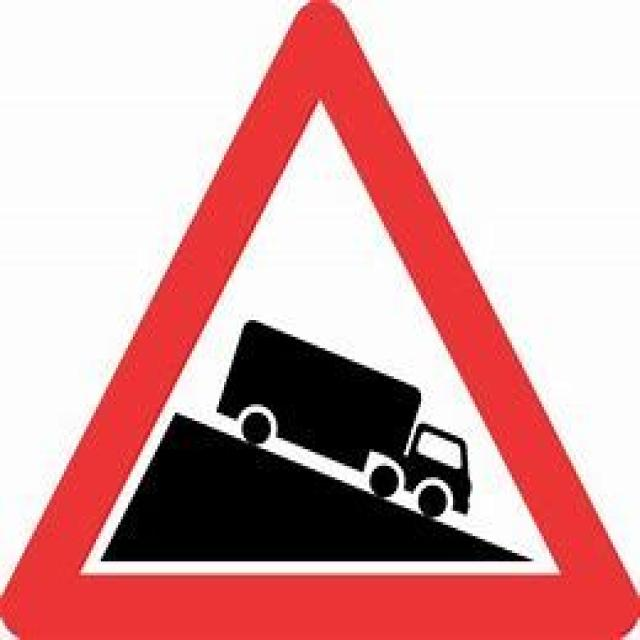speed_limit_80: (0, 0, 638, 637)
